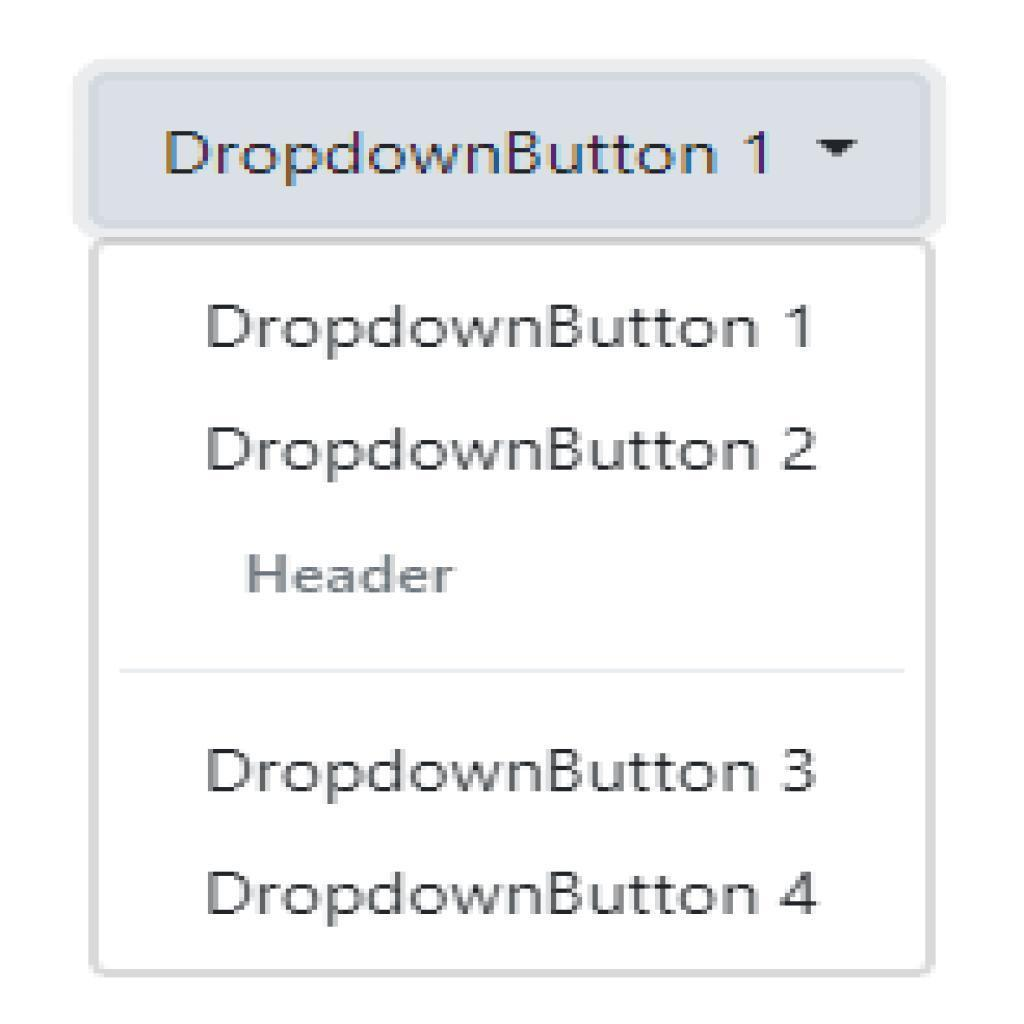dropdown: (86, 71, 932, 231)
